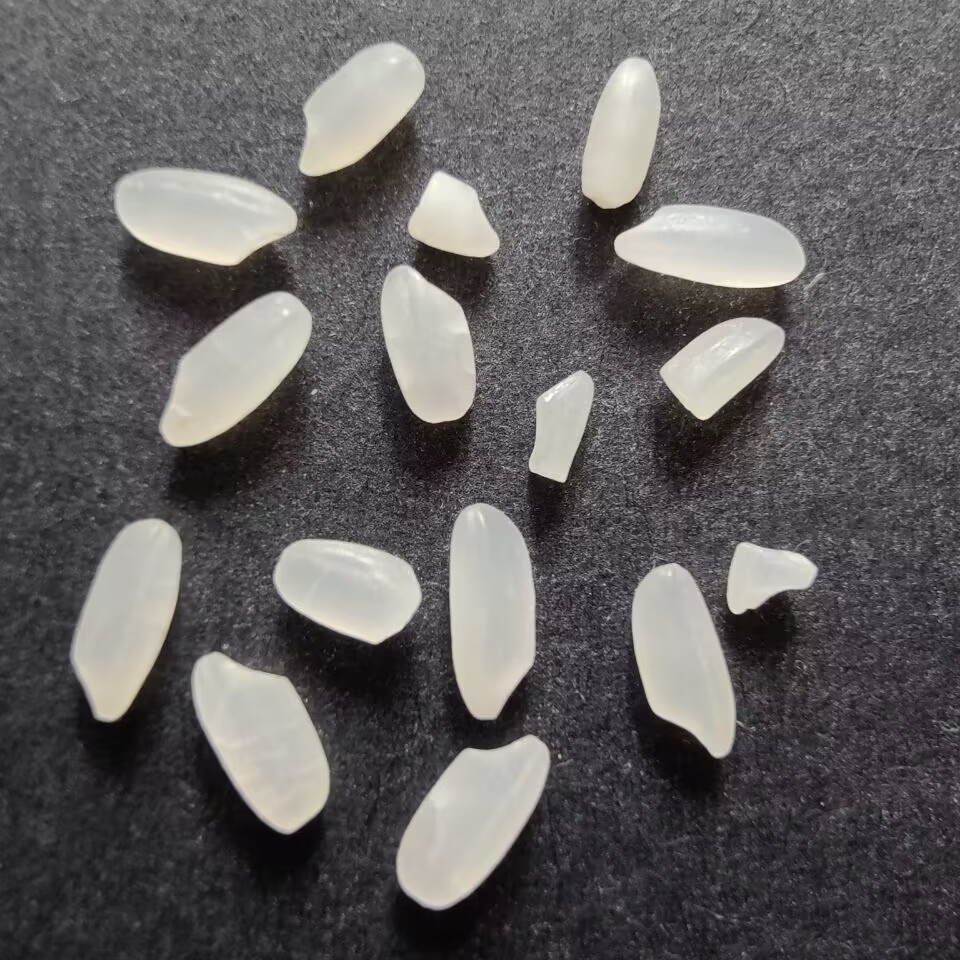broken: (658, 314, 793, 427), (403, 169, 505, 259), (521, 366, 599, 483), (722, 536, 822, 619)
rice: (390, 729, 551, 912), (188, 650, 330, 841), (155, 289, 312, 451), (65, 516, 185, 724), (624, 559, 740, 765), (444, 499, 538, 725), (108, 163, 299, 268), (294, 39, 429, 181), (270, 533, 426, 649), (610, 200, 810, 290), (379, 259, 479, 428), (576, 51, 665, 211)
